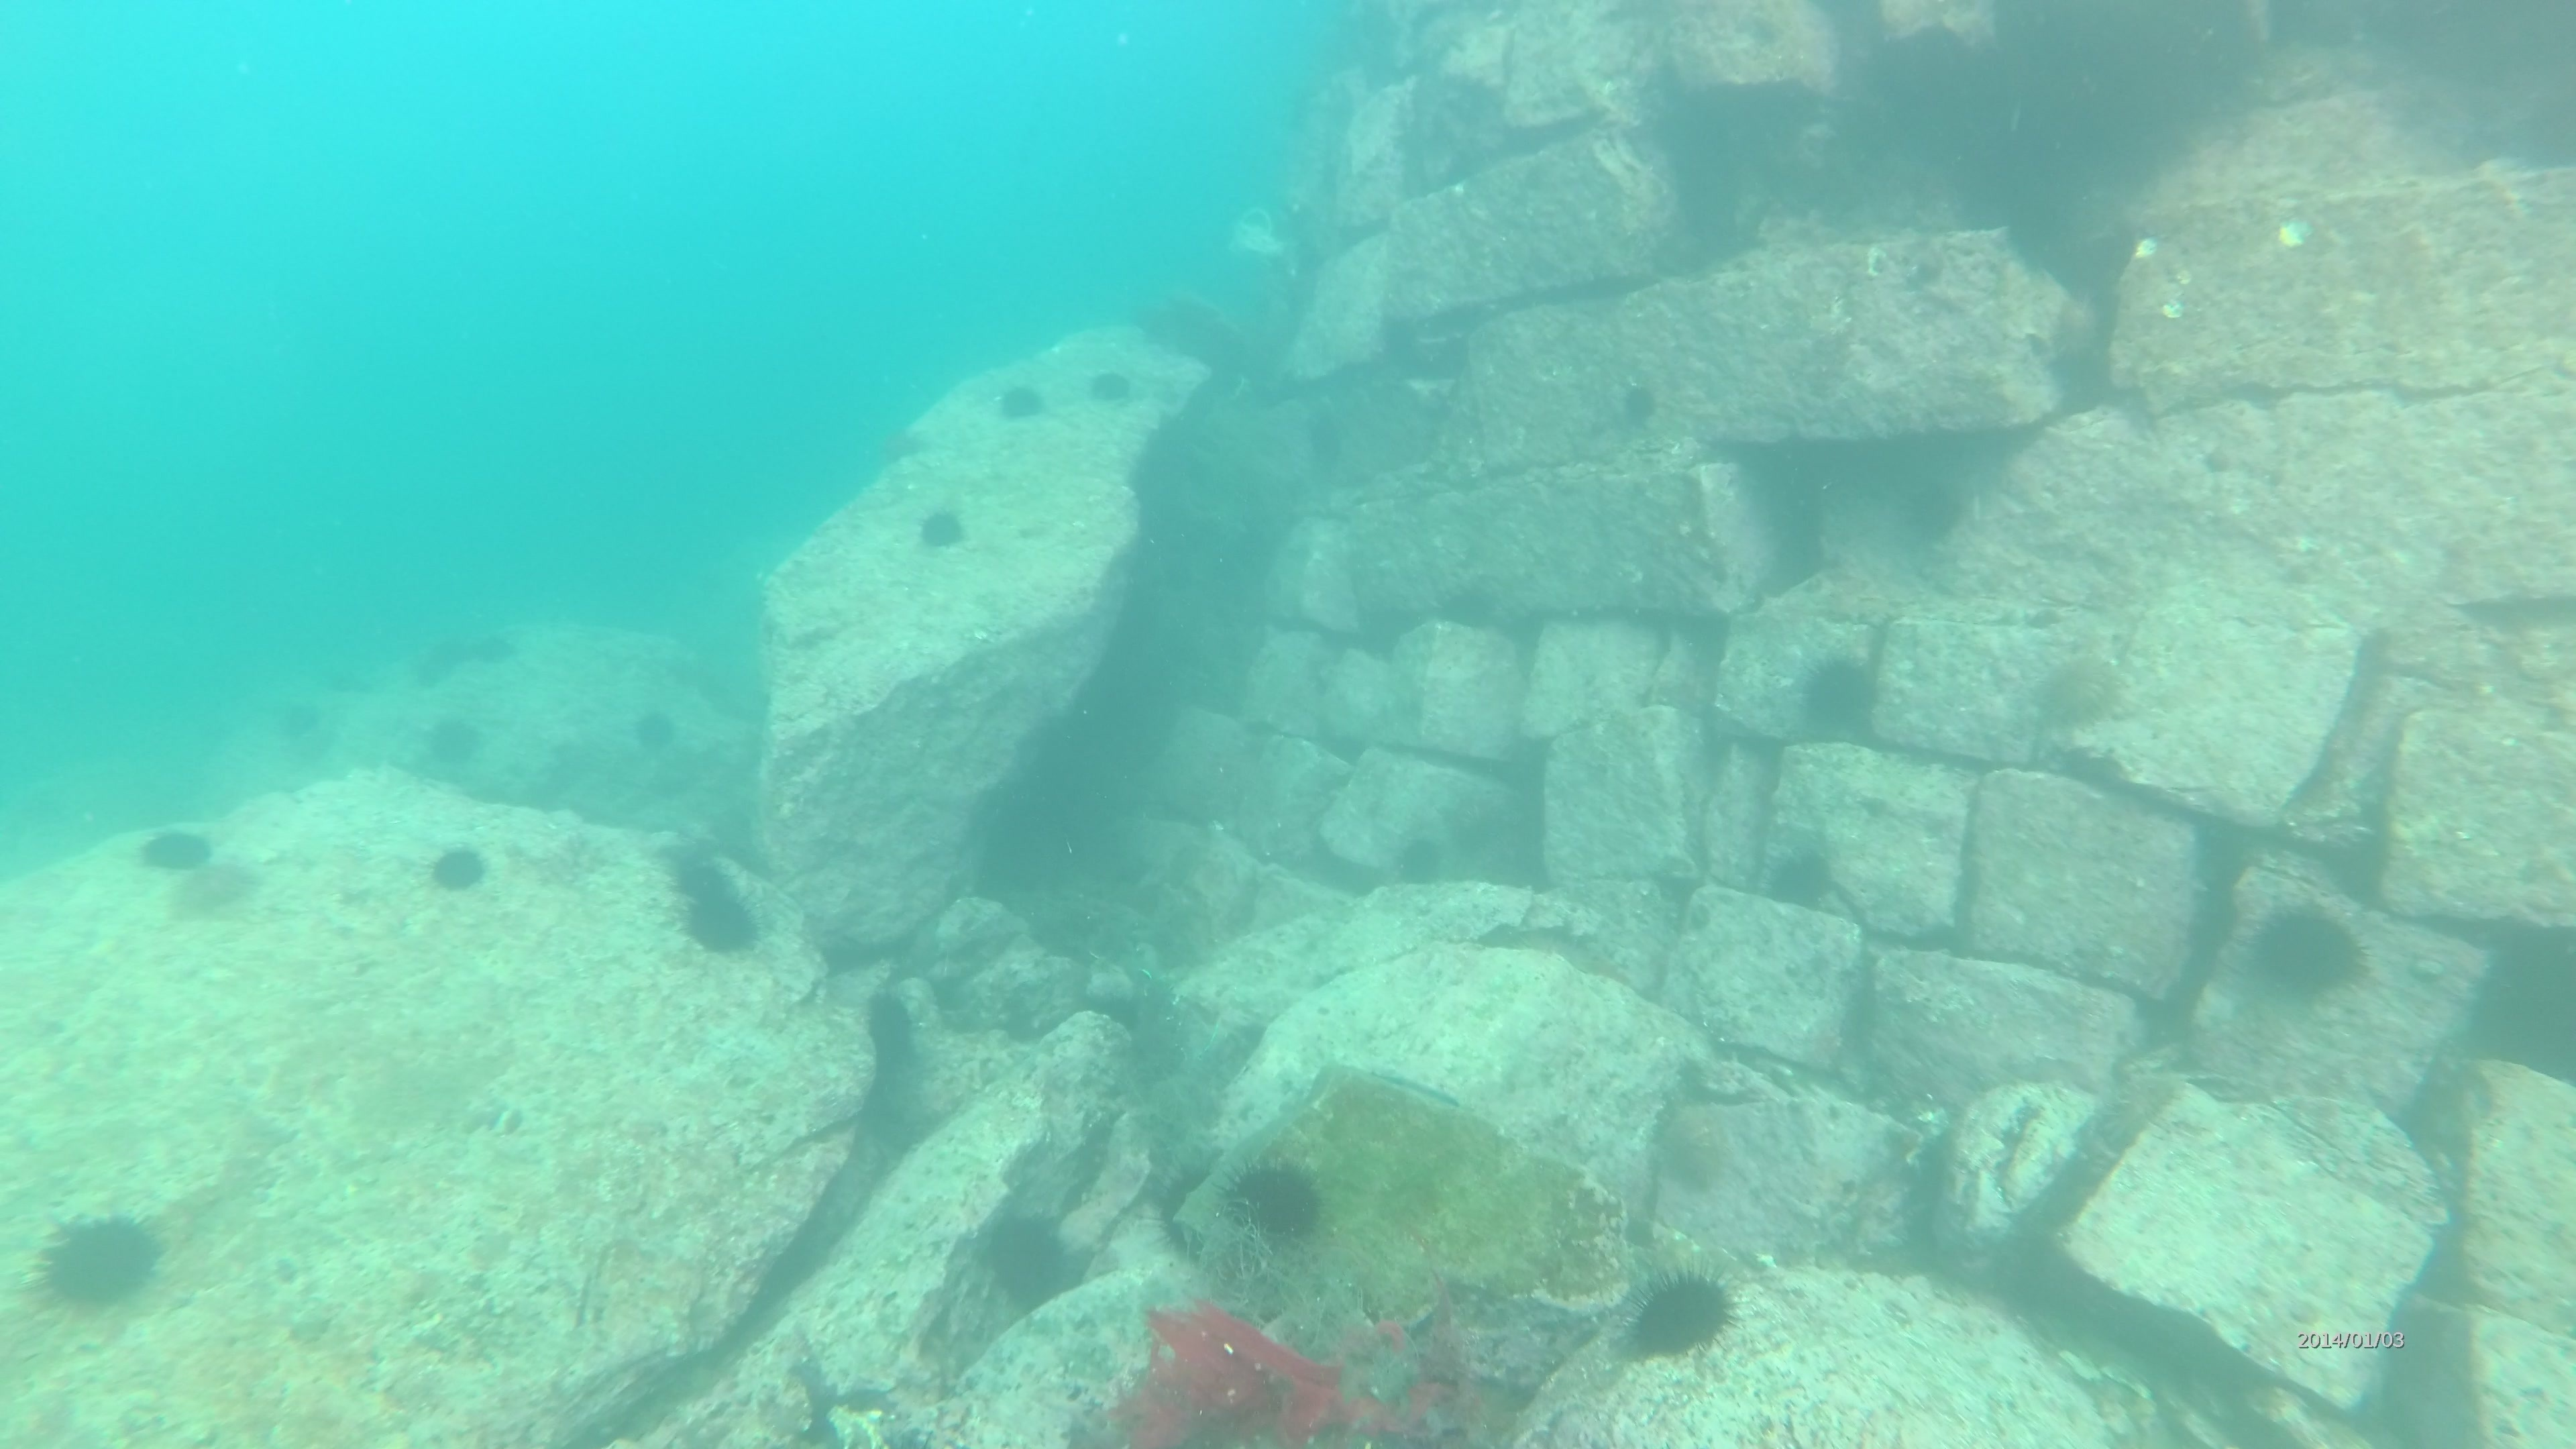echinus: (30, 1205, 168, 1320), (2245, 897, 2371, 1008), (1619, 1261, 1743, 1368), (970, 1203, 1079, 1316), (1223, 1152, 1332, 1249), (1790, 646, 1890, 750), (2028, 644, 2132, 736), (1134, 287, 1240, 372), (409, 619, 520, 692), (163, 851, 262, 927), (1890, 465, 1976, 550), (1760, 835, 1844, 918), (269, 692, 340, 770), (685, 895, 766, 962), (134, 819, 218, 883), (416, 708, 488, 777), (425, 837, 494, 899), (1612, 372, 1665, 439), (911, 499, 971, 557), (991, 375, 1049, 428), (676, 856, 741, 902), (628, 702, 681, 757), (1085, 363, 1138, 412)
